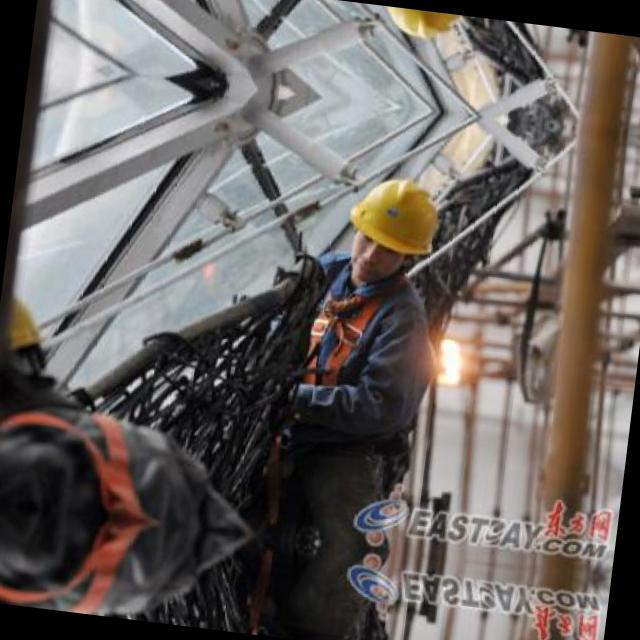helmet: (334, 167, 446, 285), (362, 3, 467, 48)
